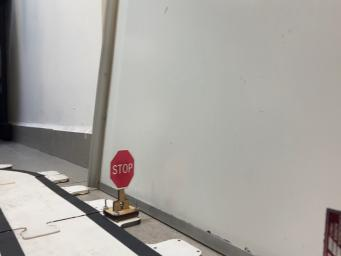stop: (103, 150, 139, 222), (103, 150, 139, 222)
street: (0, 169, 161, 256), (0, 169, 161, 256)
